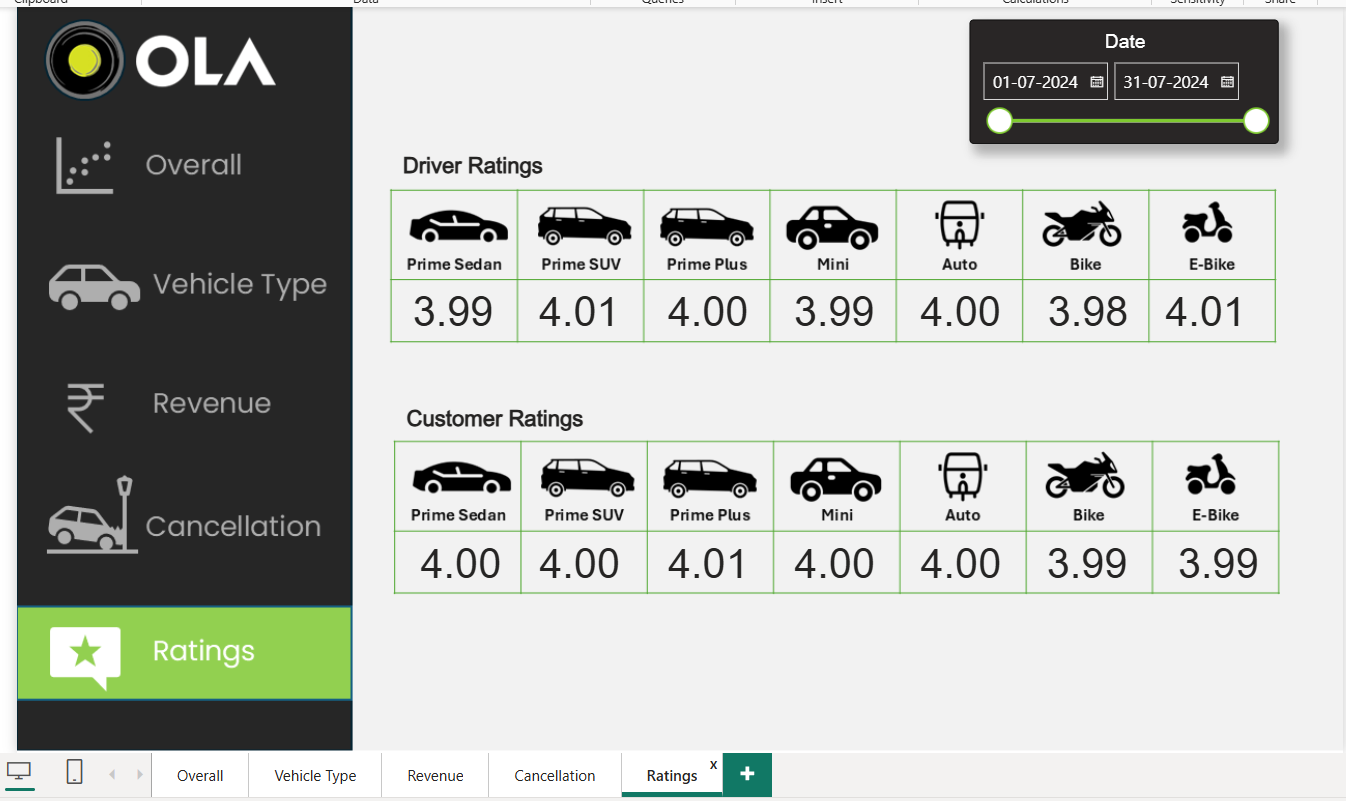

What the dashboard file says about the page in this screenshot:
{"tool":"powerbi","page":{"name":"Ratings","canvas":[1280,720],"ordinal":4},"visuals":[{"type":"actionButton","box":[0,219.6,323.3,96.5],"z":0},{"type":"actionButton","box":[0,326.9,323.3,102.5],"z":1000},{"type":"actionButton","box":[0,444,323.3,102.5],"z":2000},{"type":"actionButton","box":[0,106.2,323.3,102.5],"z":3000},{"type":"card","fields":{"Values":["Avg(Sheet1 (2).Driver_Ratings)"]},"box":[364.3,267.8,113.4,48.3],"z":4000},{"type":"card","fields":{"Values":["Avg(Sheet1 (2).Driver_Ratings)"]},"box":[486.2,267.8,113.4,48.3],"z":5000},{"type":"card","fields":{"Values":["Avg(Sheet1 (2).Driver_Ratings)"]},"box":[854.2,267.8,113.4,48.3],"z":6000},{"type":"card","fields":{"Values":["Avg(Sheet1 (2).Driver_Ratings)"]},"box":[732.3,267.8,113.4,48.3],"z":7000},{"type":"card","fields":{"Values":["Avg(Sheet1 (2).Driver_Ratings)"]},"box":[610.5,267.8,113.4,48.3],"z":8000},{"type":"card","fields":{"Values":["Avg(Sheet1 (2).Driver_Ratings)"]},"box":[977.2,263,113.4,57.9],"z":9000},{"type":"card","fields":{"Values":["Avg(Sheet1 (2).Driver_Ratings)"]},"box":[1090.6,267.8,113.4,48.3],"z":10000},{"type":"card","fields":{"Values":["Avg(Sheet1 (2).Customer_Rating)"]},"box":[372,511.7,114,48.5],"z":11000},{"type":"card","fields":{"Values":["Avg(Sheet1 (2).Customer_Rating)"]},"box":[486.1,511.7,114,48.5],"z":12000},{"type":"card","fields":{"Values":["Avg(Sheet1 (2).Customer_Rating)"]},"box":[610.1,511.7,114,48.5],"z":13000},{"type":"card","fields":{"Values":["Avg(Sheet1 (2).Customer_Rating)"]},"box":[732.7,511.7,114,48.5],"z":14000},{"type":"card","fields":{"Values":["Avg(Sheet1 (2).Customer_Rating)"]},"box":[853.8,511.7,114,48.5],"z":15000},{"type":"card","fields":{"Values":["Avg(Sheet1 (2).Customer_Rating)"]},"box":[976.4,511.7,114,48.5],"z":16000},{"type":"card","fields":{"Values":["Avg(Sheet1 (2).Customer_Rating)"]},"box":[1103.3,511.7,114,48.5],"z":17000},{"type":"textbox","box":[364.9,132.6,151.1,47],"z":18000},{"type":"textbox","box":[364.9,377.7,193.9,45.6],"z":19000},{"type":"slicer","title":"Date","fields":{"Values":["Sheet1 (2).Date"]},"box":[919,12.7,298.7,120.3],"z":20000}]}

Visuals, with their boxes on the page's 1280x720 design canvas (x1, y1, x2, y2). These are canvas units, not pixel positions in the 1346x801 screenshot, which may show the page scaled, cropped or inside an application window:
actionButton: <region>0, 220, 323, 316</region>
actionButton: <region>0, 327, 323, 429</region>
actionButton: <region>0, 444, 323, 546</region>
actionButton: <region>0, 106, 323, 209</region>
card - Avg(Sheet1 (2).Driver_Ratings): <region>364, 268, 478, 316</region>
card - Avg(Sheet1 (2).Driver_Ratings): <region>486, 268, 600, 316</region>
card - Avg(Sheet1 (2).Driver_Ratings): <region>854, 268, 968, 316</region>
card - Avg(Sheet1 (2).Driver_Ratings): <region>732, 268, 846, 316</region>
card - Avg(Sheet1 (2).Driver_Ratings): <region>610, 268, 724, 316</region>
card - Avg(Sheet1 (2).Driver_Ratings): <region>977, 263, 1091, 321</region>
card - Avg(Sheet1 (2).Driver_Ratings): <region>1091, 268, 1204, 316</region>
card - Avg(Sheet1 (2).Customer_Rating): <region>372, 512, 486, 560</region>
card - Avg(Sheet1 (2).Customer_Rating): <region>486, 512, 600, 560</region>
card - Avg(Sheet1 (2).Customer_Rating): <region>610, 512, 724, 560</region>
card - Avg(Sheet1 (2).Customer_Rating): <region>733, 512, 847, 560</region>
card - Avg(Sheet1 (2).Customer_Rating): <region>854, 512, 968, 560</region>
card - Avg(Sheet1 (2).Customer_Rating): <region>976, 512, 1090, 560</region>
card - Avg(Sheet1 (2).Customer_Rating): <region>1103, 512, 1217, 560</region>
textbox: <region>365, 133, 516, 180</region>
textbox: <region>365, 378, 559, 423</region>
"Date" slicer: <region>919, 13, 1218, 133</region>
